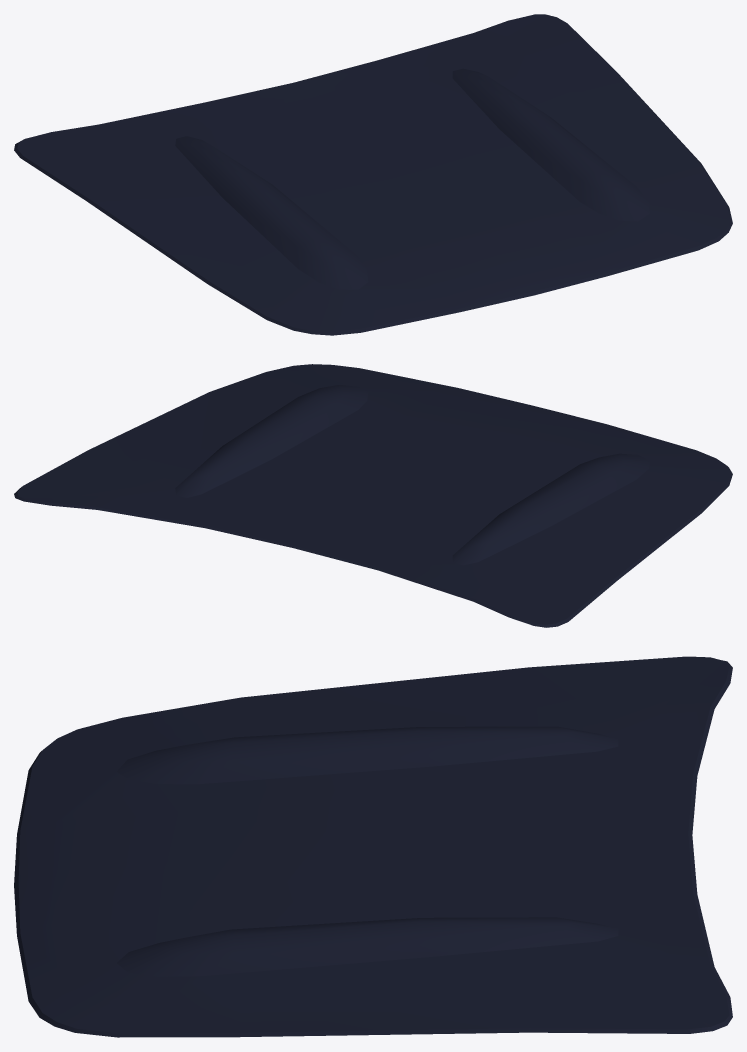
Rendered from Hood.obj.
The picture shows the model from 3 angles, top to bottom: view 1: azimuth 30°, elevation 25°; view 2: azimuth 150°, elevation 25°; view 3: azimuth 270°, elevation 25°; orthographic projection. The views are drawn at different scales.
Parts seen in each view (by area): view 1: Hood; view 2: Hood; view 3: Hood.
Boxes of the visible parts, x1,y1,x2,y2 form: Hood: (14, 14, 732, 335); Hood: (14, 364, 732, 627); Hood: (14, 656, 732, 1037).
Size of the model in its own units: 32.41 by 2.38 by 26.2.
Materials: 1 (1 with a texture image).
